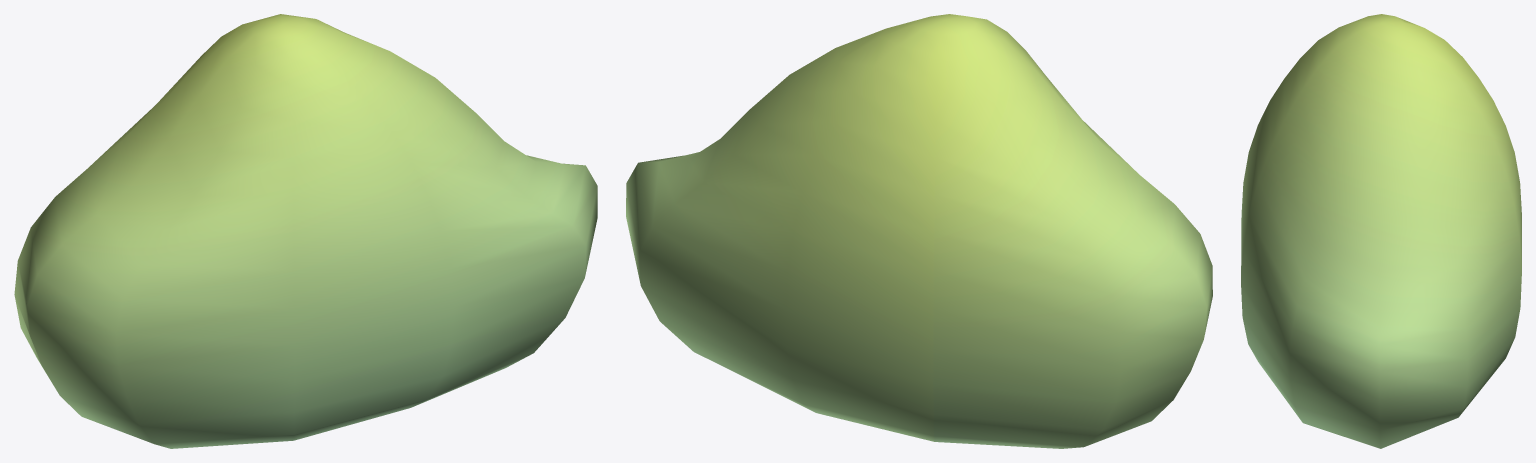
Rendered from Bush1.fbx.
3 views of the same model, side by side, from view 1: azimuth 30°, elevation 25°; view 2: azimuth 150°, elevation 25°; view 3: azimuth 270°, elevation 25° (orthographic). The views are drawn at different scales.
Visible parts, largest first — view 1: Bush1; view 2: Bush1; view 3: Bush1.
Boxes of the visible parts, bbox=[...] form: Bush1: bbox=[14, 14, 597, 448]; Bush1: bbox=[626, 14, 1212, 448]; Bush1: bbox=[1241, 14, 1521, 448].
Size of the model in its own units: 182 by 113 by 87.27.
Materials: 1 (1 with a texture image).
